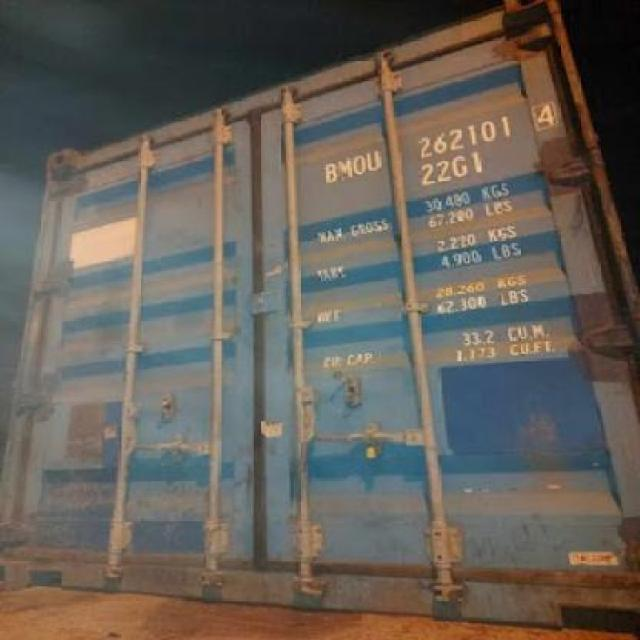ISO: (417, 150, 481, 189)
container_number: (326, 99, 554, 182)
